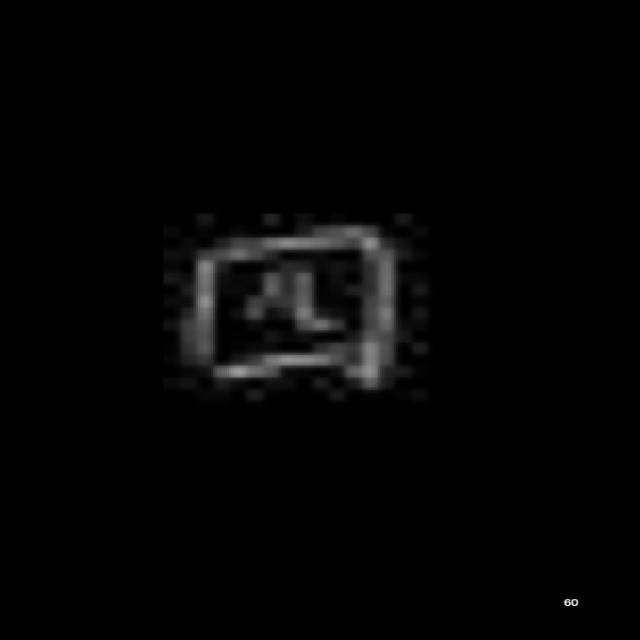4 -four-: (166, 211, 412, 402)
